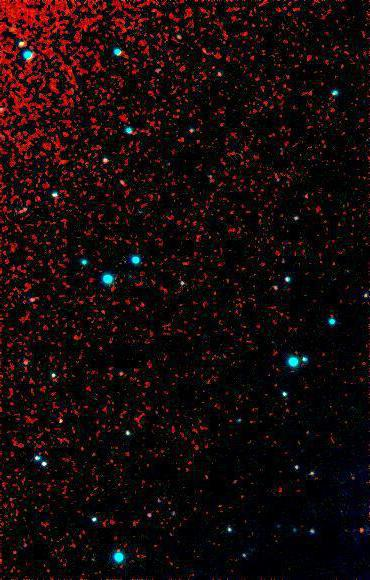star: (349, 511, 370, 541)
